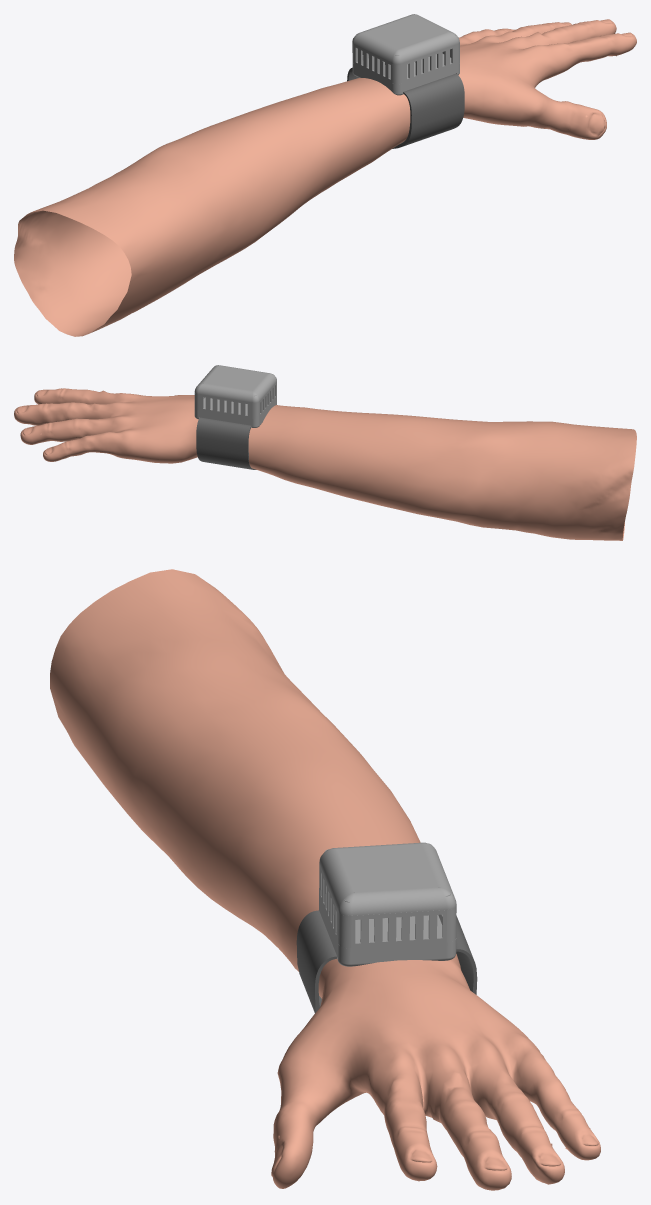
File: PortablePneumaticWristband4.glb
The picture shows the model from 3 angles, top to bottom: view 1: azimuth 30°, elevation 25°; view 2: azimuth 150°, elevation 25°; view 3: azimuth 270°, elevation 25°; orthographic projection. The views are drawn at different scales.
Visible parts, largest first — view 1: New object, NAUO2, NAUO4, NAUO1, NAUO3; view 2: New object, NAUO4, NAUO2, NAUO1, NAUO3; view 3: New object, NAUO2, NAUO1, NAUO4, NAUO3.
Boxes of the visible parts, x1=… form: New object: x1=14, y1=19, x2=636, y2=336; NAUO2: x1=352, y1=14, x2=459, y2=64; NAUO4: x1=347, y1=67, x2=464, y2=148; NAUO1: x1=352, y1=42, x2=459, y2=86; NAUO3: x1=352, y1=58, x2=459, y2=95; New object: x1=14, y1=388, x2=636, y2=540; NAUO4: x1=196, y1=417, x2=256, y2=469; NAUO2: x1=194, y1=365, x2=276, y2=403; NAUO1: x1=194, y1=382, x2=276, y2=420; NAUO3: x1=194, y1=399, x2=276, y2=427; New object: x1=50, y1=569, x2=600, y2=1190; NAUO2: x1=319, y1=842, x2=456, y2=915; NAUO1: x1=319, y1=864, x2=456, y2=951; NAUO4: x1=296, y1=910, x2=477, y2=1012; NAUO3: x1=318, y1=899, x2=456, y2=966.
Bounding box in the file's own units: 184 × 39.12 × 79.89.
